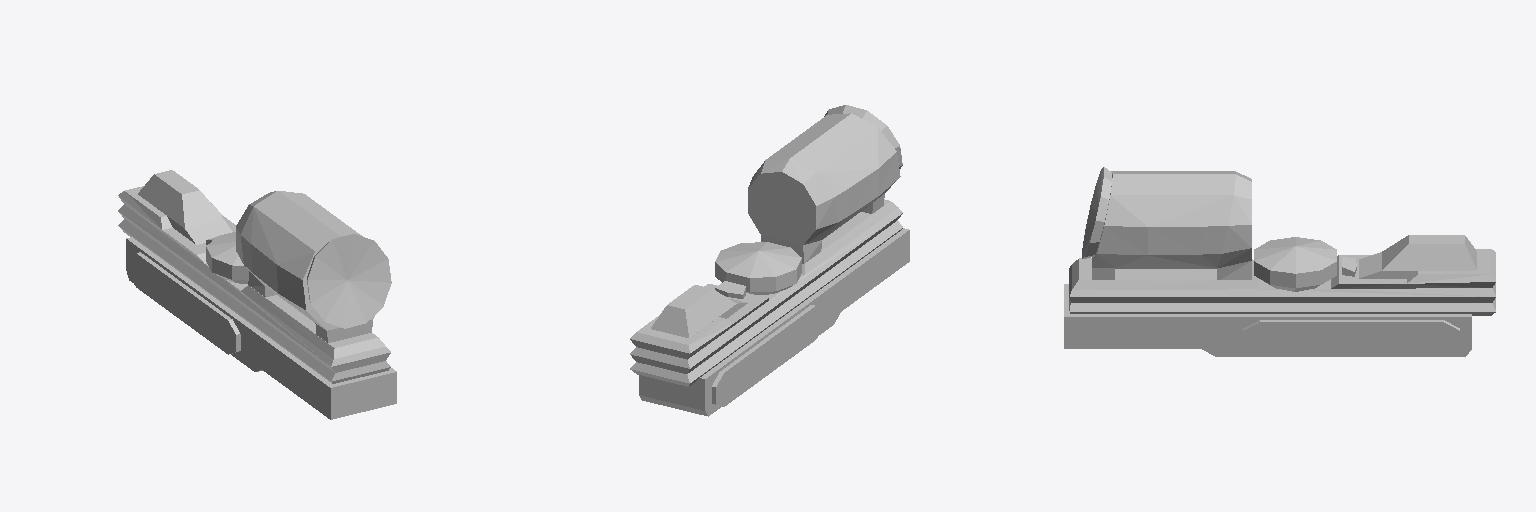
File: sight3.obj
3 views of the same model, side by side, from view 1: azimuth 30°, elevation 25°; view 2: azimuth 150°, elevation 25°; view 3: azimuth 270°, elevation 25° (orthographic).
Visible parts, largest first — view 1: sight3; view 2: sight3; view 3: sight3.
Boxes of the visible parts, box(x1,y1,x2,y2) form: sight3: box(118, 170, 396, 419); sight3: box(630, 105, 909, 416); sight3: box(1064, 167, 1495, 356).
Bounding box in the file's own units: 3.51 × 6.32 × 14.7.